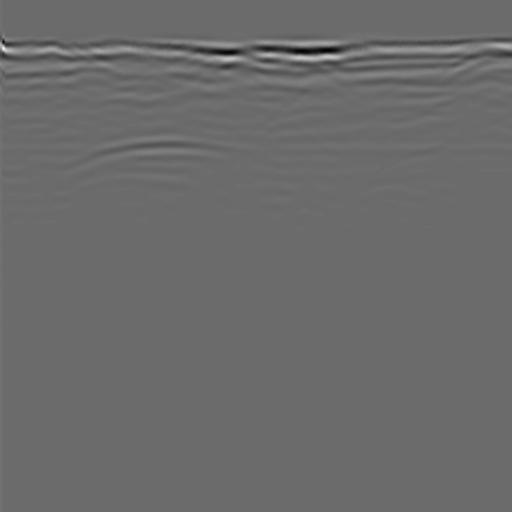hyperbola: (39, 128, 310, 228)
